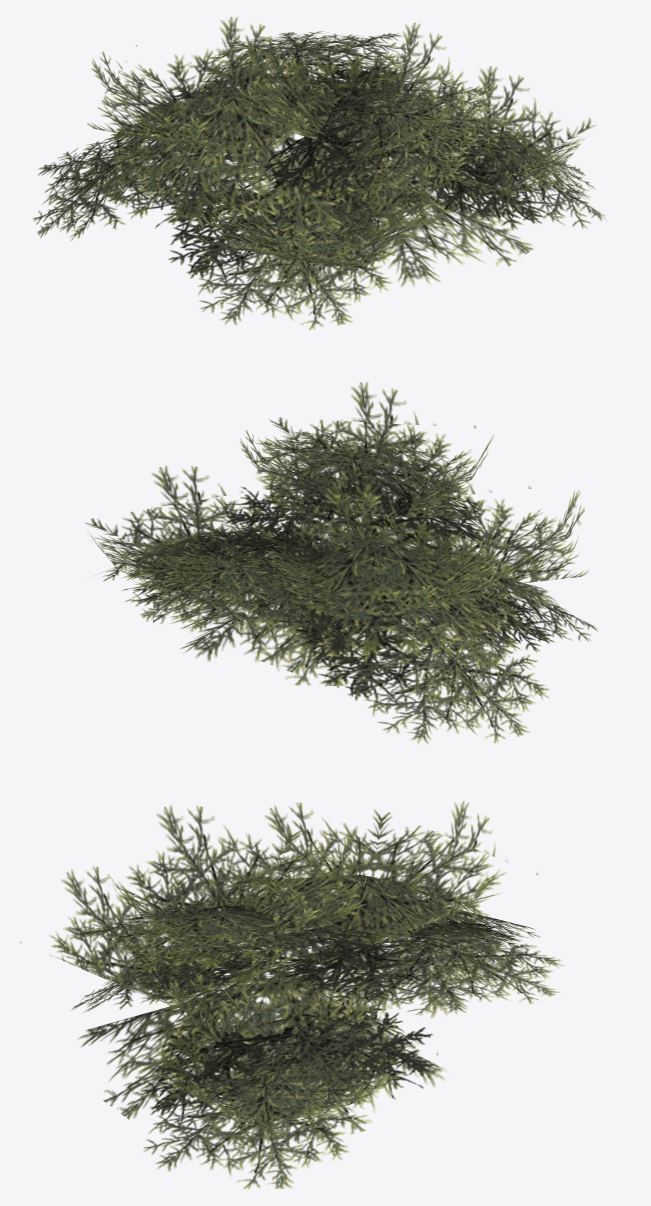
File: plant-08.glb
3 views of the same model, one above another, from view 1: azimuth 30°, elevation 25°; view 2: azimuth 150°, elevation 25°; view 3: azimuth 270°, elevation 25° (orthographic). The views are drawn at different scales.
Visible parts, largest first — view 1: Circle_053; view 2: Circle_053; view 3: Circle_053.
Part boxes in pixels (x1,y1,x2,y2): Circle_053: (33, 17, 606, 330); Circle_053: (85, 382, 597, 744); Circle_053: (20, 801, 564, 1189).
Bounding box in the file's own units: 9.25 × 3.25 × 8.45.
1 material, 1 textured.
